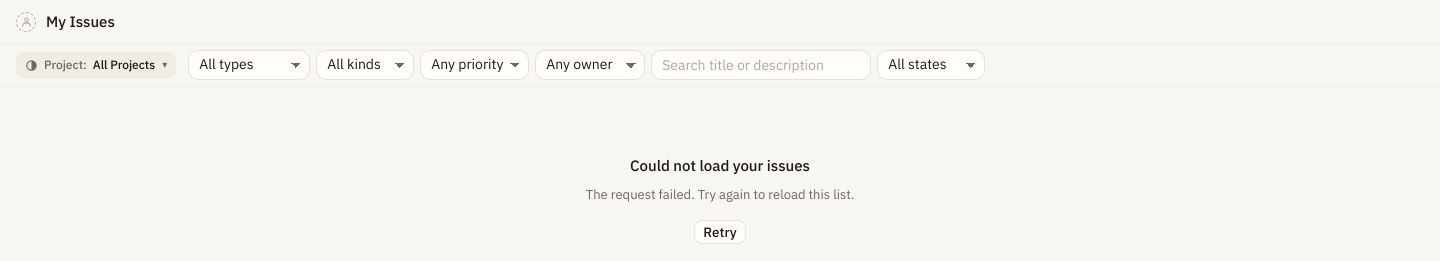
it: retryable list load errors › does not mistake a failed My Issues request for an empty list
Expected: the heading "Could not load your issues" is shown, [630,155,810,177]
Expected: the text "No issues assigned to you" is not shown
What coordinates should you click on to do the following:
click the button "Retry"
I would click on:
 (720, 232)
Its box is [694,220,746,244].
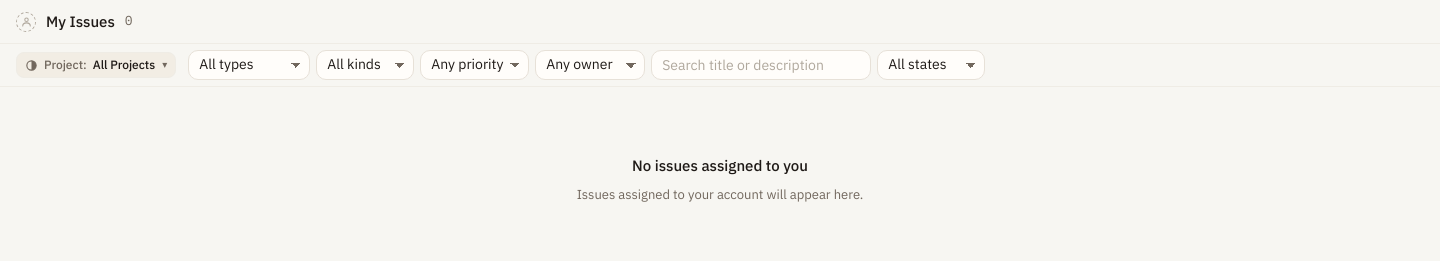
Expected: the heading "No issues assigned to you" is shown, [632,155,808,177]
